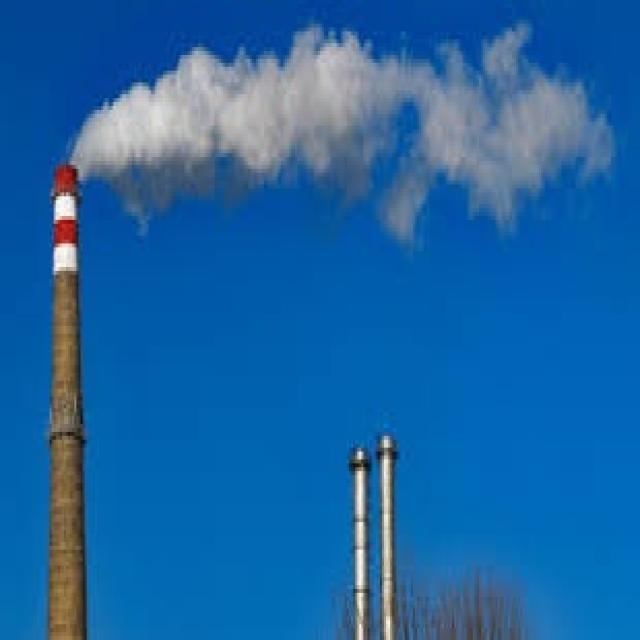Smoke: (68, 18, 618, 247)
